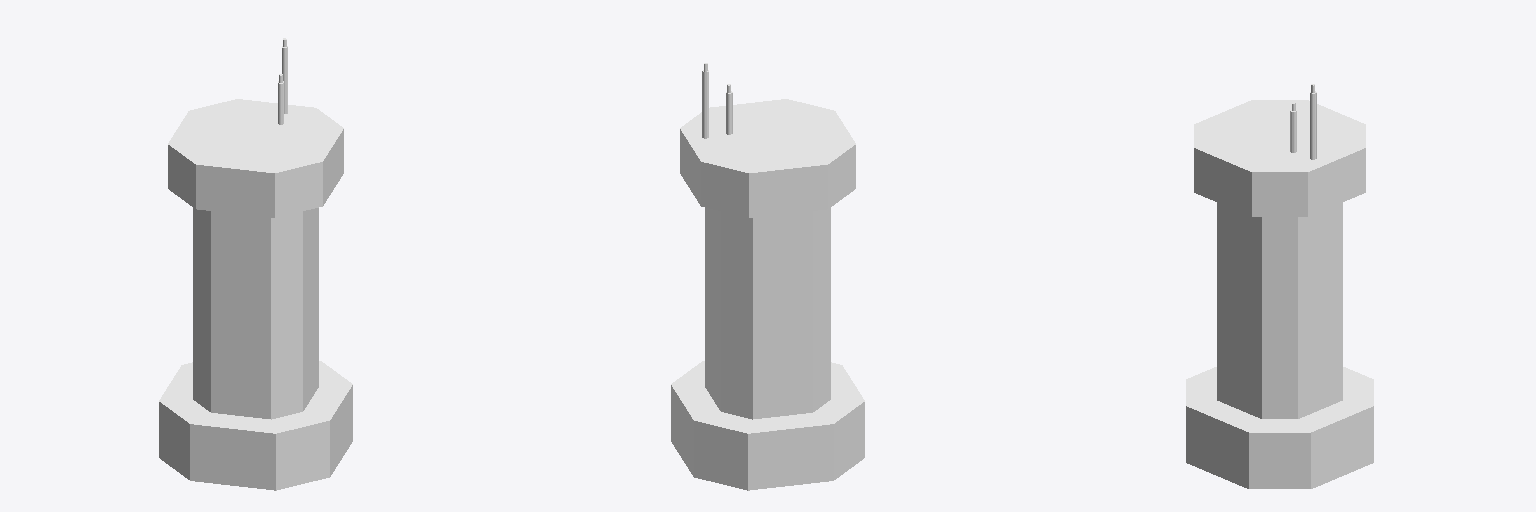
The model's file is AdBoard.obj.
3 renders of one model, left to right at view 1: azimuth 30°, elevation 25°; view 2: azimuth 150°, elevation 25°; view 3: azimuth 270°, elevation 25°, orthographic.
Visible parts, largest first — view 1: octotoad1; view 2: octotoad1; view 3: octotoad1.
Part boxes in pixels (bbox=[...]): octotoad1: bbox=[159, 99, 352, 490]; octotoad1: bbox=[671, 99, 864, 490]; octotoad1: bbox=[1186, 100, 1373, 488].
Bounding box in the file's own units: 2 × 4.54 × 2.